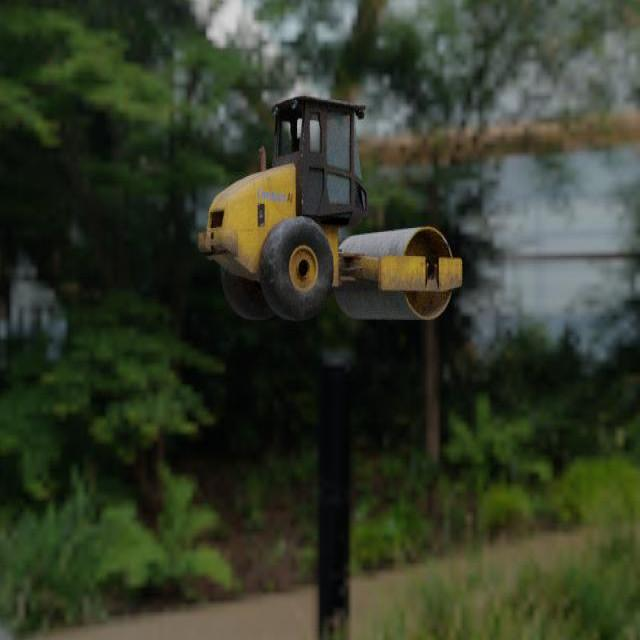Roller: (197, 95, 462, 320)
